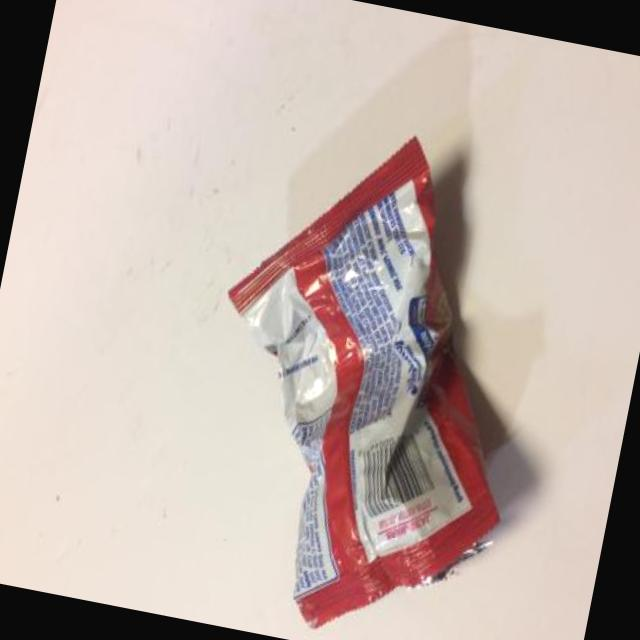bao_bi_thuc_pham: (228, 133, 502, 628)
